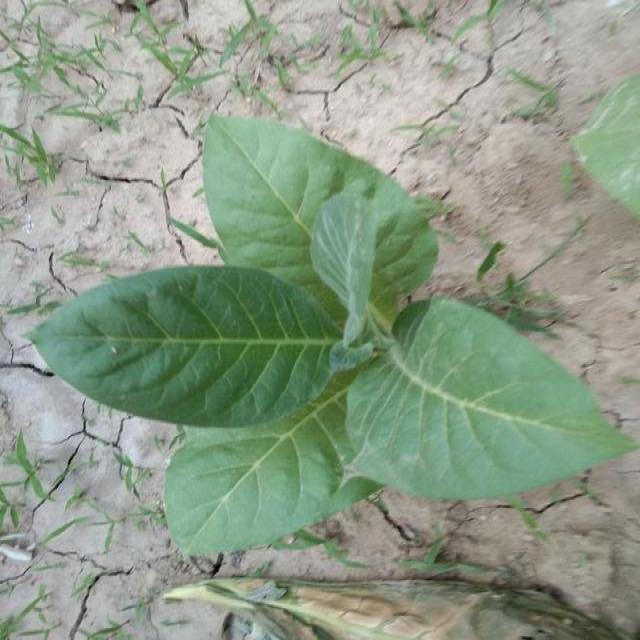crop: (23, 83, 640, 561)
